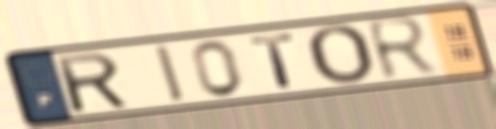0: (187, 37, 248, 99)
I: (151, 42, 190, 105)
O: (302, 23, 378, 88)
R: (361, 13, 443, 85), (51, 50, 133, 116)
T: (246, 31, 299, 90)
